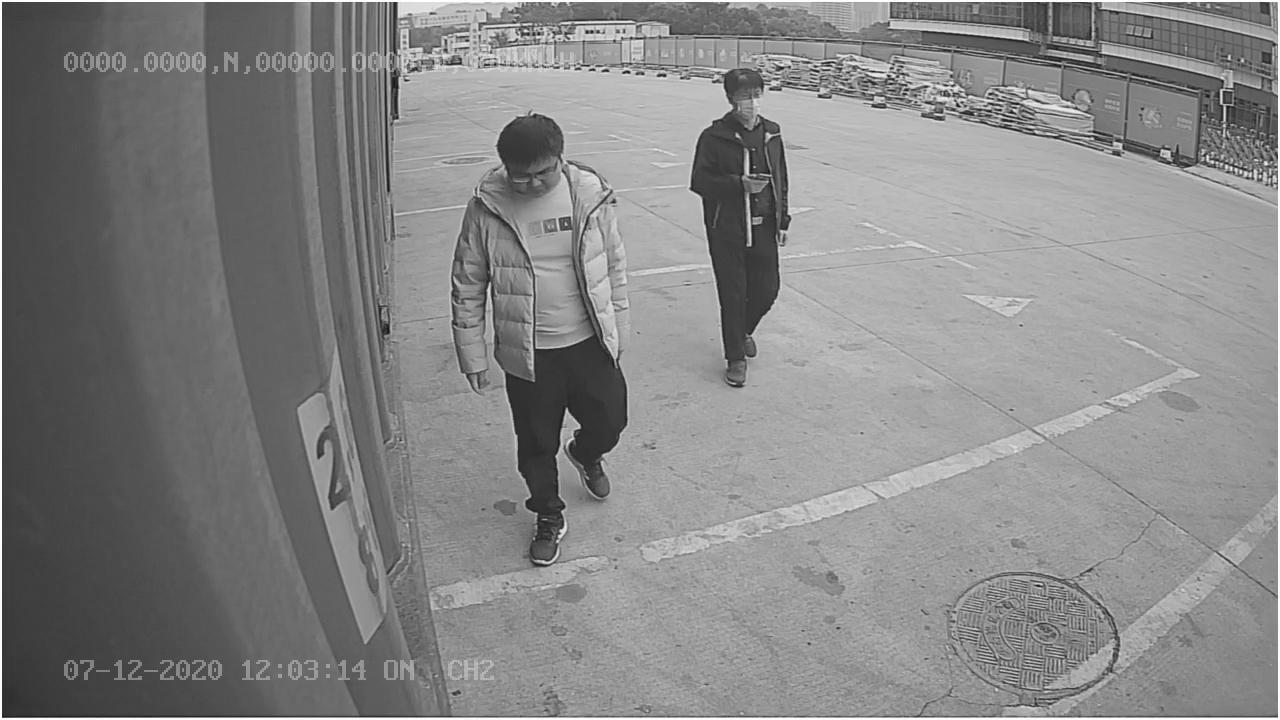person: (444, 109, 637, 569), (681, 60, 801, 391)
